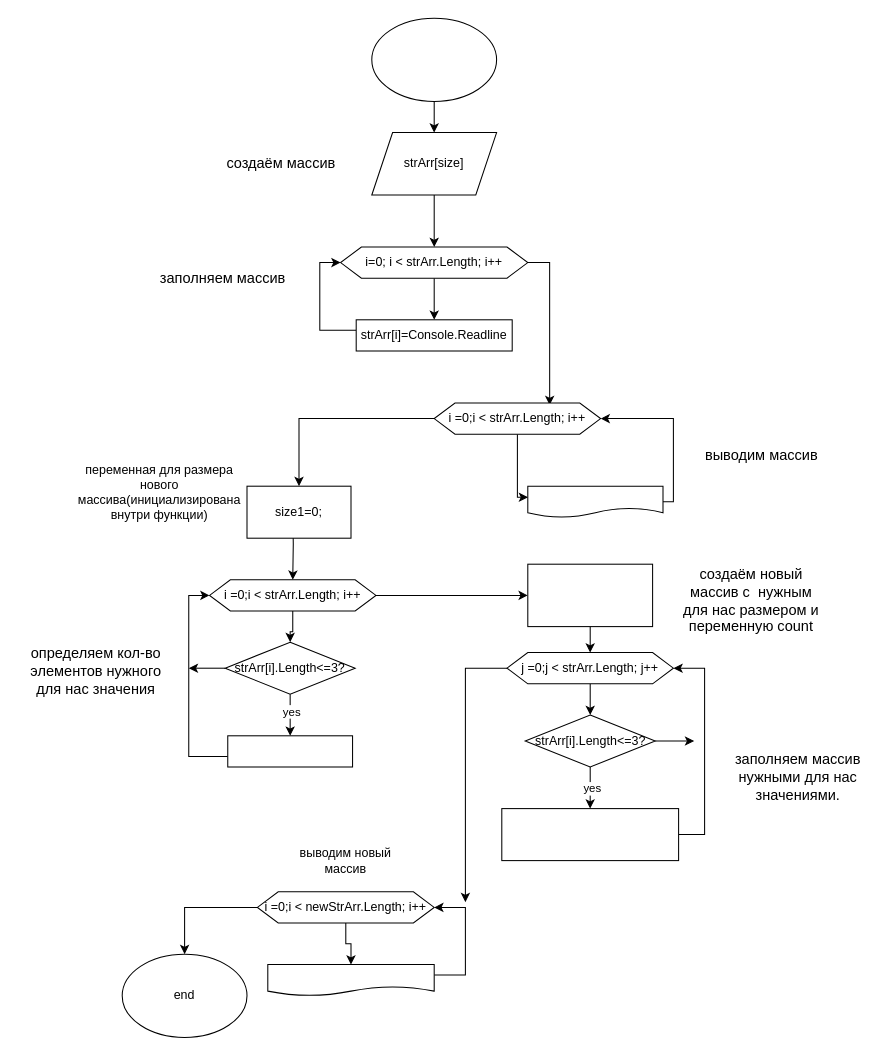
This 888x1056 diagram has some shape labels left out. The shapes that lost their labels are listed below. From the top down, each one's centre as x and y in pixels, then its label:
At [434,59]: "start".
At [595,501]: "Console.Write(strArr[i])".
At [590,595]: "newStrArr[size1]; count =0;".
At [290,751]: "size1++;".
At [590,834]: "newStrArr[count]= strArr[j] count++".
At [350,980]: "Console.Write(newStrArr[i])".
